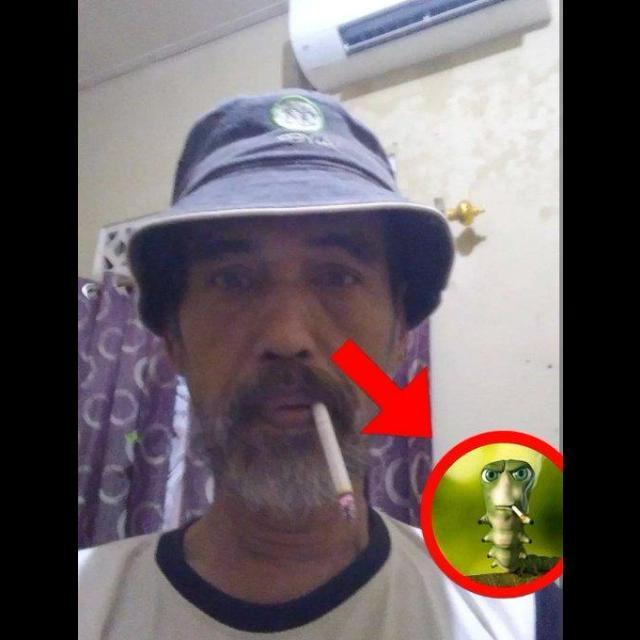rokok: (308, 400, 364, 526)
